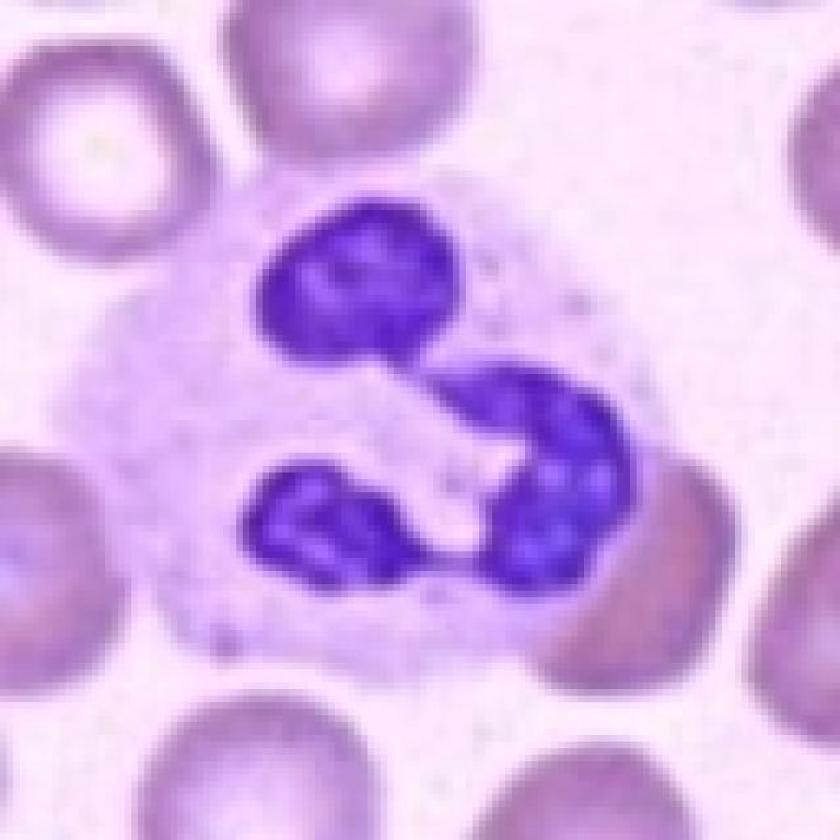neutrophil: (46, 158, 666, 693)
